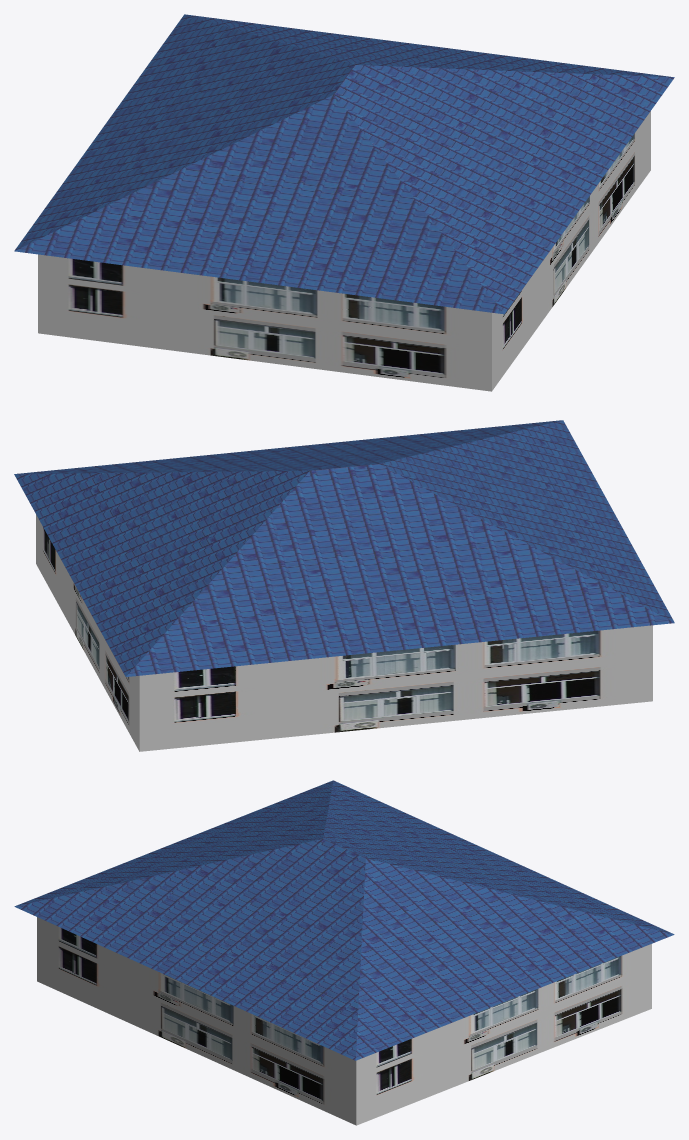
3 views of the same model, one above another, from view 1: azimuth 30°, elevation 25°; view 2: azimuth 150°, elevation 25°; view 3: azimuth 270°, elevation 25° (orthographic). The views are drawn at different scales.
Visible parts, largest first — view 1: CityEngineMaterial_10_m, CityEngineMaterial_9_m; view 2: CityEngineMaterial_10_m, CityEngineMaterial_9_m; view 3: CityEngineMaterial_10_m, CityEngineMaterial_9_m.
Boxes of the visible parts, left/top/right/bottom form: CityEngineMaterial_10_m: left=14, top=14, right=674, bottom=314; CityEngineMaterial_9_m: left=38, top=111, right=650, bottom=391; CityEngineMaterial_10_m: left=14, top=420, right=674, bottom=676; CityEngineMaterial_9_m: left=36, top=514, right=652, bottom=751; CityEngineMaterial_10_m: left=14, top=780, right=674, bottom=1060; CityEngineMaterial_9_m: left=37, top=917, right=651, bottom=1125.
Bounding box in the file's own units: 38.28 × 9.33 × 38.11.
